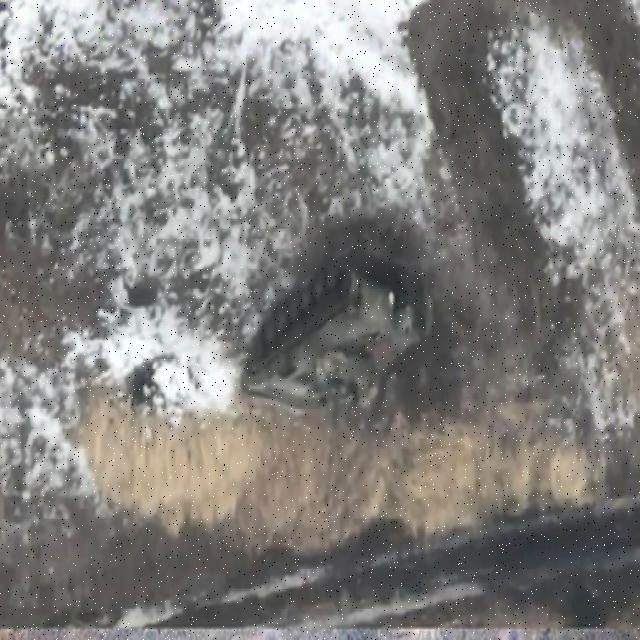APC-IFV: (242, 249, 428, 455)
